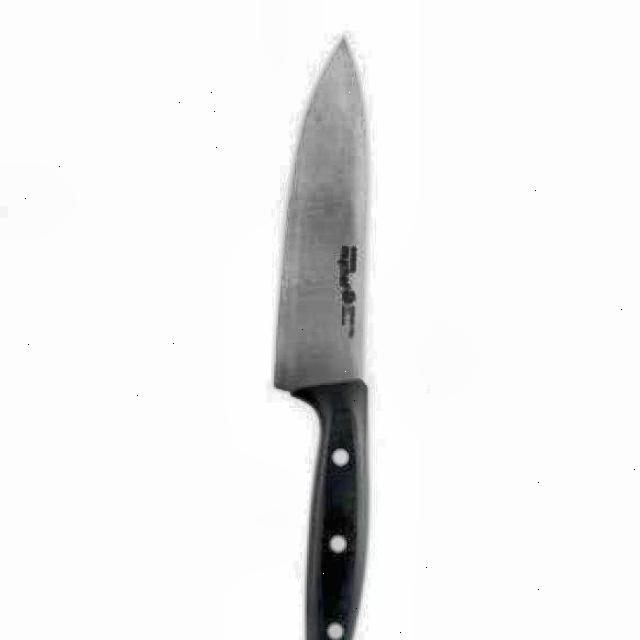knife: (268, 31, 377, 640)
